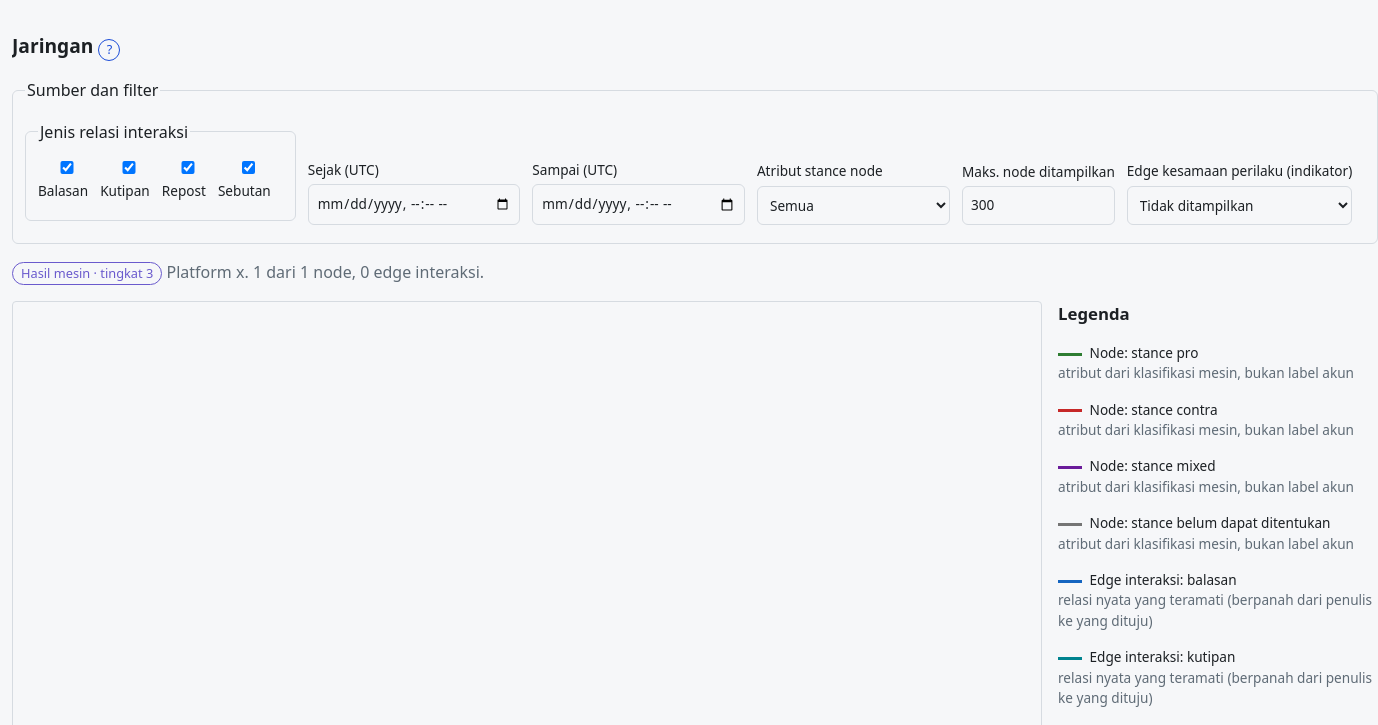
Test: NetworkPanel: graf dan indikator tidak mencampur dataset atau platform (FR-081) › jawaban terlambat dari run indikator lama tidak menimpa pilihan yang lebih baru
The image size is (1378, 725).
Select "Run #11 (dataset 10)" in the dropdown named "Analisis indikator" at (1240,205), box top-left (1127, 186), bottom-right (1352, 225)
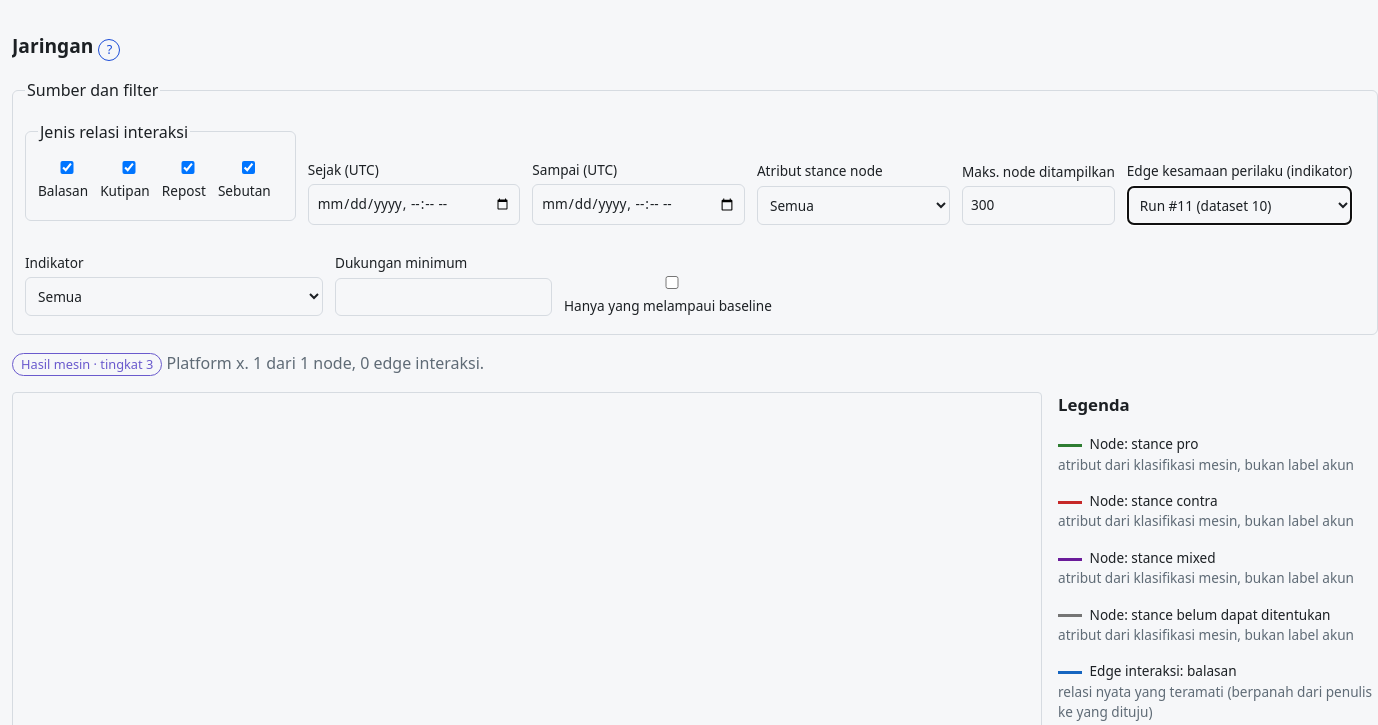
Select "Run #14 (dataset 10)" in the dropdown named "Analisis indikator" at (1240,205), box top-left (1127, 186), bottom-right (1352, 225)
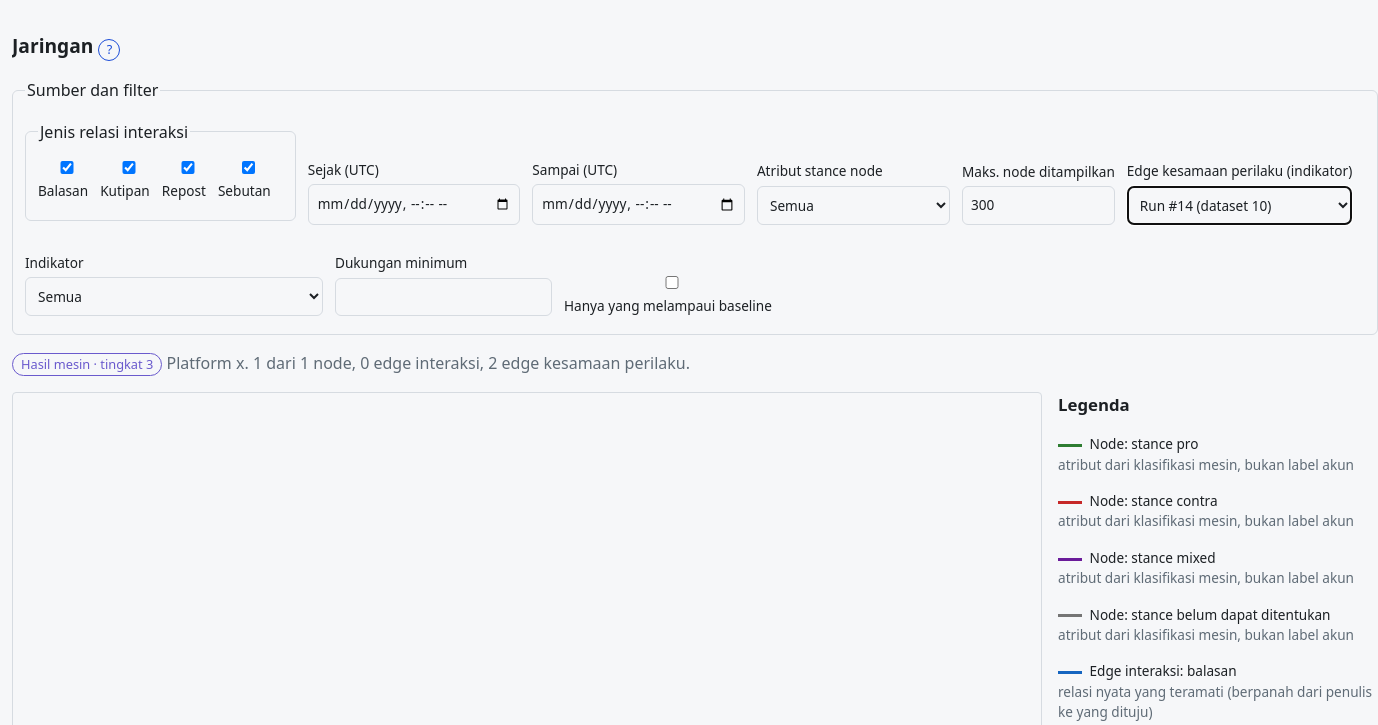
Expected: the text "2 edge kesamaan perilaku" is shown, top-left (480, 352), bottom-right (686, 374)
